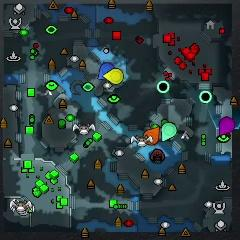p1: (98, 63, 115, 80)
p2: (162, 122, 176, 141)
p2Clone: (156, 81, 169, 93), (200, 91, 212, 103)
p3: (219, 117, 234, 136)
p4: (103, 68, 124, 83)
p5: (144, 126, 160, 145)
